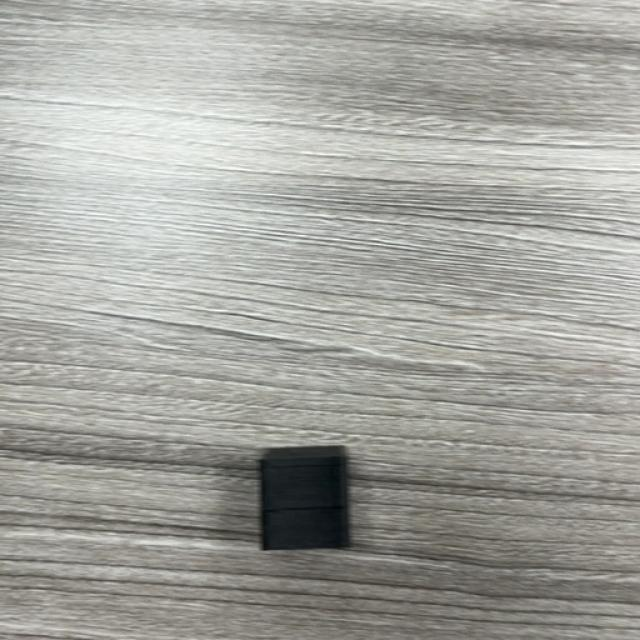Negro: (259, 448, 352, 552)
